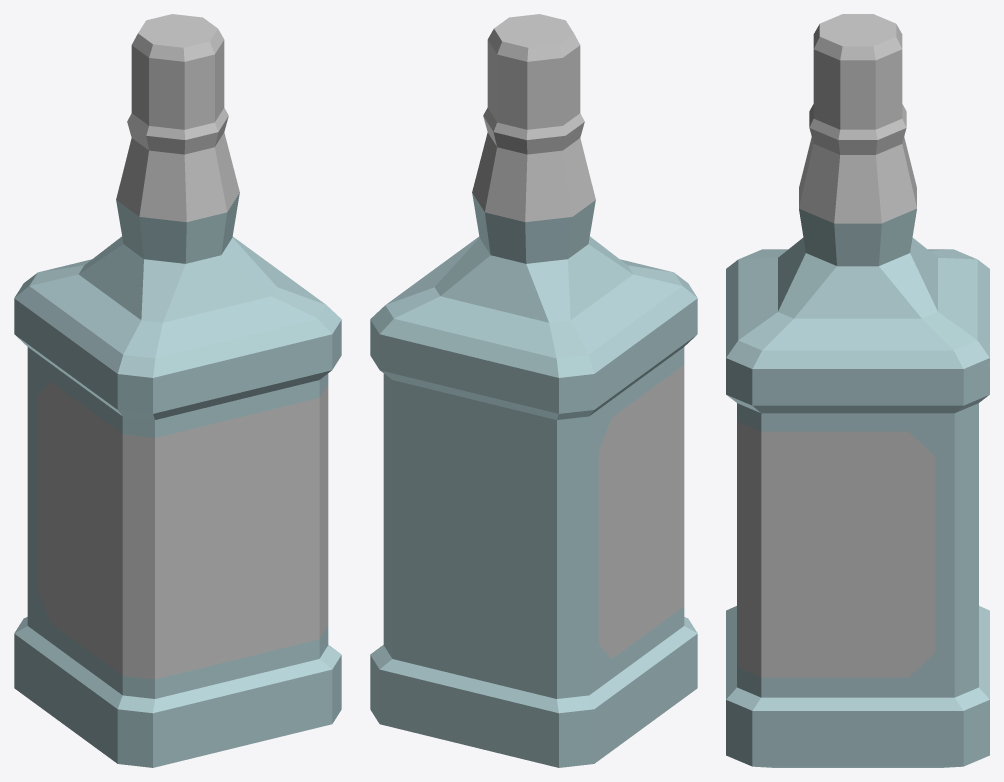
File: SM_Prop_Alcohol_Bottle_Empty_01.obj
3 views of the same model, side by side, from view 1: azimuth 30°, elevation 25°; view 2: azimuth 150°, elevation 25°; view 3: azimuth 270°, elevation 25° (orthographic).
Parts seen in each view (by area): view 1: SM_Prop_Alcohol_Bottle_Empty_01_1, SM_Prop_Alcohol_Bottle_Empty_01_0; view 2: SM_Prop_Alcohol_Bottle_Empty_01_0, SM_Prop_Alcohol_Bottle_Empty_01_1; view 3: SM_Prop_Alcohol_Bottle_Empty_01_0, SM_Prop_Alcohol_Bottle_Empty_01_1.
Part boxes in pixels (x1,y1,x2,y2): SM_Prop_Alcohol_Bottle_Empty_01_1: [37, 14, 328, 679]; SM_Prop_Alcohol_Bottle_Empty_01_0: [14, 192, 341, 767]; SM_Prop_Alcohol_Bottle_Empty_01_0: [370, 192, 697, 767]; SM_Prop_Alcohol_Bottle_Empty_01_1: [472, 14, 684, 658]; SM_Prop_Alcohol_Bottle_Empty_01_0: [726, 209, 989, 767]; SM_Prop_Alcohol_Bottle_Empty_01_1: [737, 14, 935, 677].
Bounding box in the file's own units: 0.1475 × 0.4281 × 0.1475.
